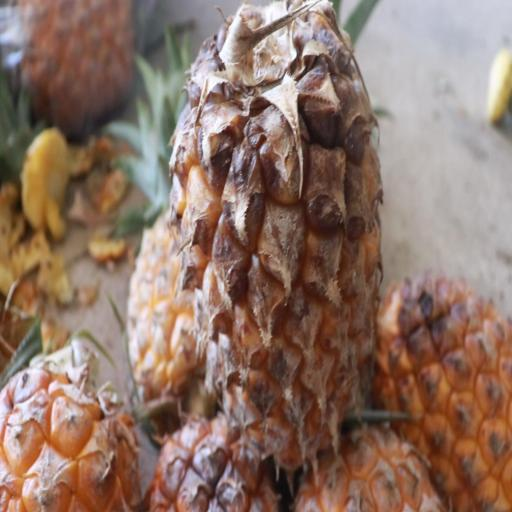Pineapple - v8 v1: (157, 0, 386, 501), (366, 269, 512, 512)
